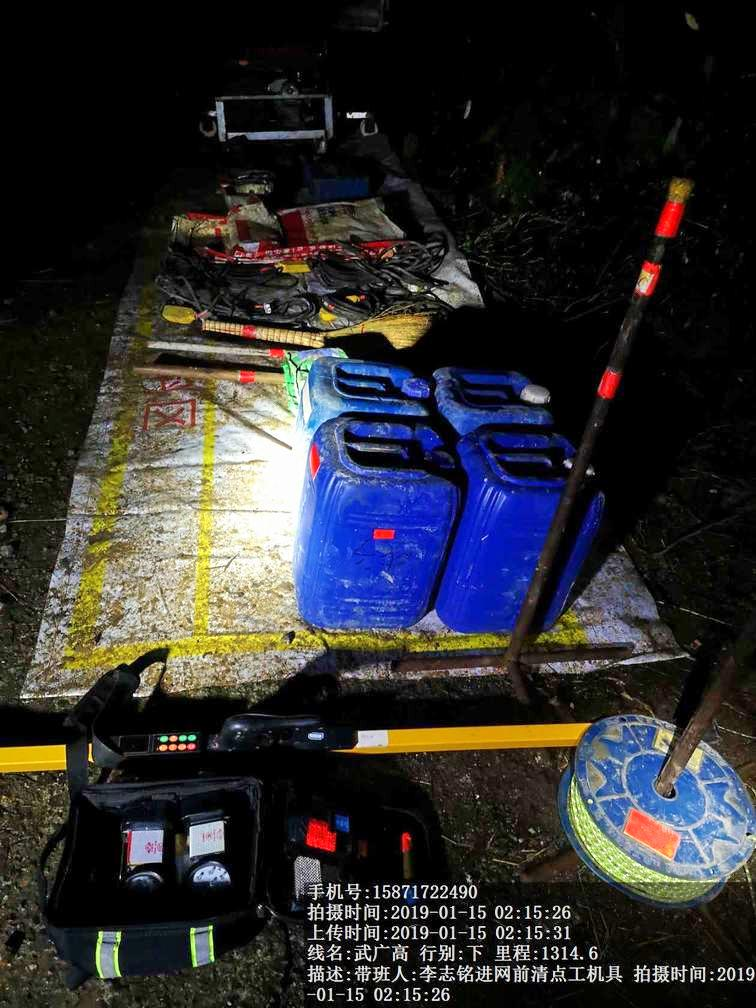GJB: (35, 719, 289, 990)
SNT: (279, 417, 460, 628), (302, 352, 434, 418)
